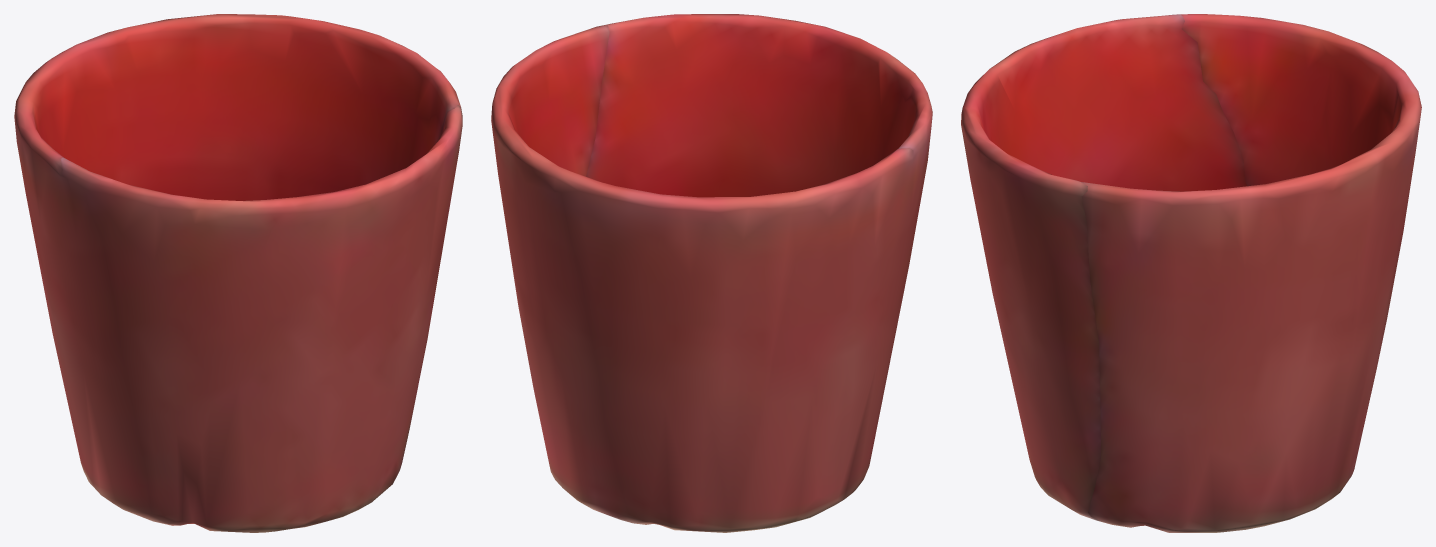
Rendered from Sapota_Threshold_4_Ceramic_Round_Planter_Red-medium.glb.
3 views of the same model, side by side, from view 1: azimuth 30°, elevation 25°; view 2: azimuth 150°, elevation 25°; view 3: azimuth 270°, elevation 25° (orthographic).
Visible parts, largest first — view 1: Sapota_Threshold_4_Ceramic_Round_Planter_Red; view 2: Sapota_Threshold_4_Ceramic_Round_Planter_Red; view 3: Sapota_Threshold_4_Ceramic_Round_Planter_Red.
Boxes of the visible parts, bbox=[...] form: Sapota_Threshold_4_Ceramic_Round_Planter_Red: bbox=[14, 14, 462, 532]; Sapota_Threshold_4_Ceramic_Round_Planter_Red: bbox=[491, 14, 932, 532]; Sapota_Threshold_4_Ceramic_Round_Planter_Red: bbox=[961, 14, 1421, 532].
Size of the model in its own units: 0.1059 by 0.097 by 0.1095.
Materials: 1 (1 with a texture image).
